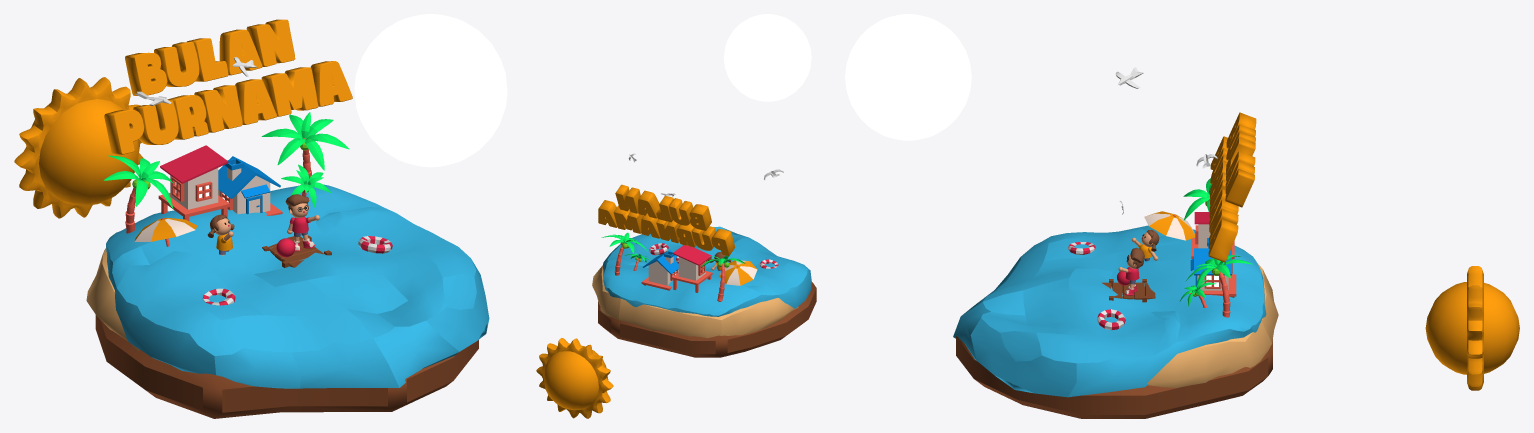
3 views of the same model, side by side, from view 1: azimuth 30°, elevation 25°; view 2: azimuth 150°, elevation 25°; view 3: azimuth 270°, elevation 25° (orthographic). The views are drawn at different scales.
Parts seen in each view (by area): view 1: Plane.007, Sphere.014, Text, Plane.013, Sphere.017, Circle, Cube.012, Plane.001, Plane.012, Plane.006, Cylinder.003, Cube.004 (+5 smaller); view 2: Plane.007, Sphere.014, Text, Plane.012, Plane.013, Sphere.017, Circle, Cube.012, Cylinder.003, Cube.003, Cube.004, Plane.001; view 3: Plane.007, Sphere.014, Plane.013, Sphere.017, Text, Plane.012, Circle, Cylinder.003.
Part boxes in pixels (left/top/right/bottom): Plane.007: left=106, top=184, right=489, bottom=388; Sphere.014: left=354, top=14, right=507, bottom=167; Text: left=104, top=19, right=352, bottom=154; Plane.013: left=95, top=315, right=478, bottom=418; Sphere.017: left=31, top=99, right=139, bottom=205; Circle: left=14, top=77, right=143, bottom=218; Cube.012: left=160, top=145, right=228, bottom=209; Plane.001: left=261, top=112, right=349, bottom=170; Plane.012: left=86, top=248, right=139, bottom=351; Plane.006: left=103, top=155, right=173, bottom=208; Cylinder.003: left=134, top=218, right=197, bottom=241; Cube.004: left=218, top=156, right=280, bottom=199; Plane.007: left=603, top=226, right=811, bottom=316; Sphere.014: left=724, top=14, right=811, bottom=101; Text: left=598, top=184, right=735, bottom=256; Plane.012: left=592, top=265, right=798, bottom=338; Plane.013: left=598, top=281, right=816, bottom=357; Sphere.017: left=543, top=346, right=608, bottom=410; Circle: left=536, top=338, right=613, bottom=418; Cube.012: left=673, top=244, right=711, bottom=280; Cylinder.003: left=719, top=260, right=757, bottom=285; Cube.003: left=648, top=261, right=678, bottom=285; Cube.004: left=643, top=250, right=678, bottom=274; Plane.001: left=601, top=232, right=647, bottom=253; Plane.007: left=953, top=225, right=1266, bottom=397; Sphere.014: left=845, top=14, right=971, bottom=140; Plane.013: left=956, top=336, right=1272, bottom=418; Sphere.017: left=1425, top=282, right=1519, bottom=374; Text: left=1208, top=112, right=1256, bottom=262; Plane.012: left=1147, top=263, right=1278, bottom=387; Circle: left=1467, top=266, right=1483, bottom=390; Cylinder.003: left=1144, top=211, right=1195, bottom=240.
Bounding box in the file's own units: 3.49 × 4.36 × 7.26.
